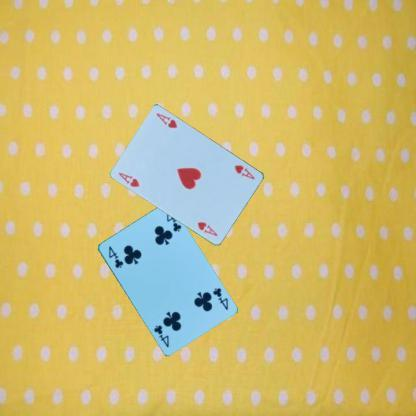4c: (210, 285, 229, 311), (106, 243, 124, 269)
Ah: (232, 162, 256, 181), (116, 170, 141, 188)
